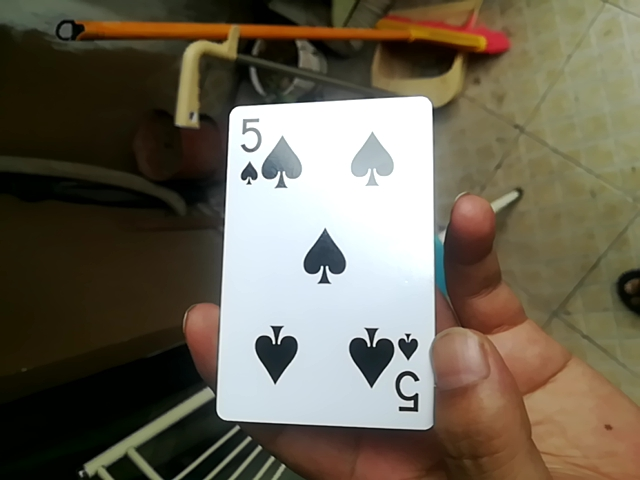ht 5: (221, 102, 439, 443)
